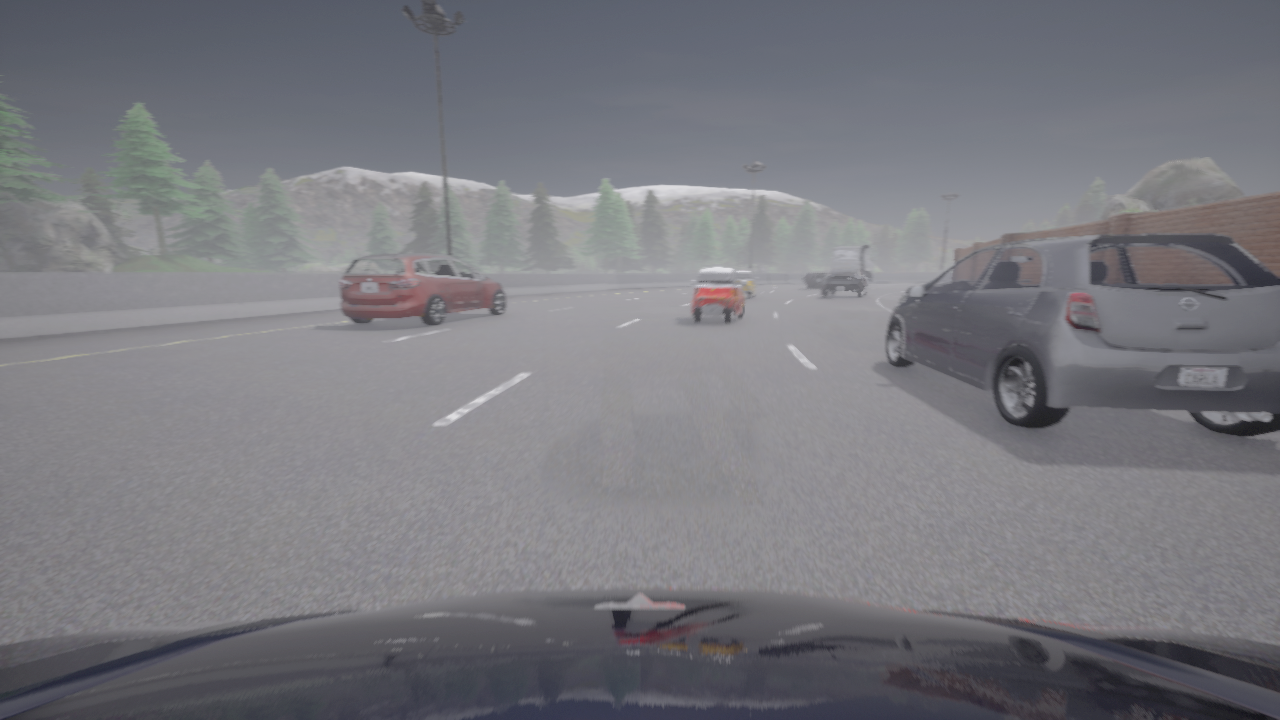cyclist: (0, 588, 1279, 719), (885, 234, 1279, 436), (339, 253, 506, 326), (802, 244, 876, 289), (690, 267, 746, 323), (822, 267, 870, 298), (735, 270, 757, 299)
